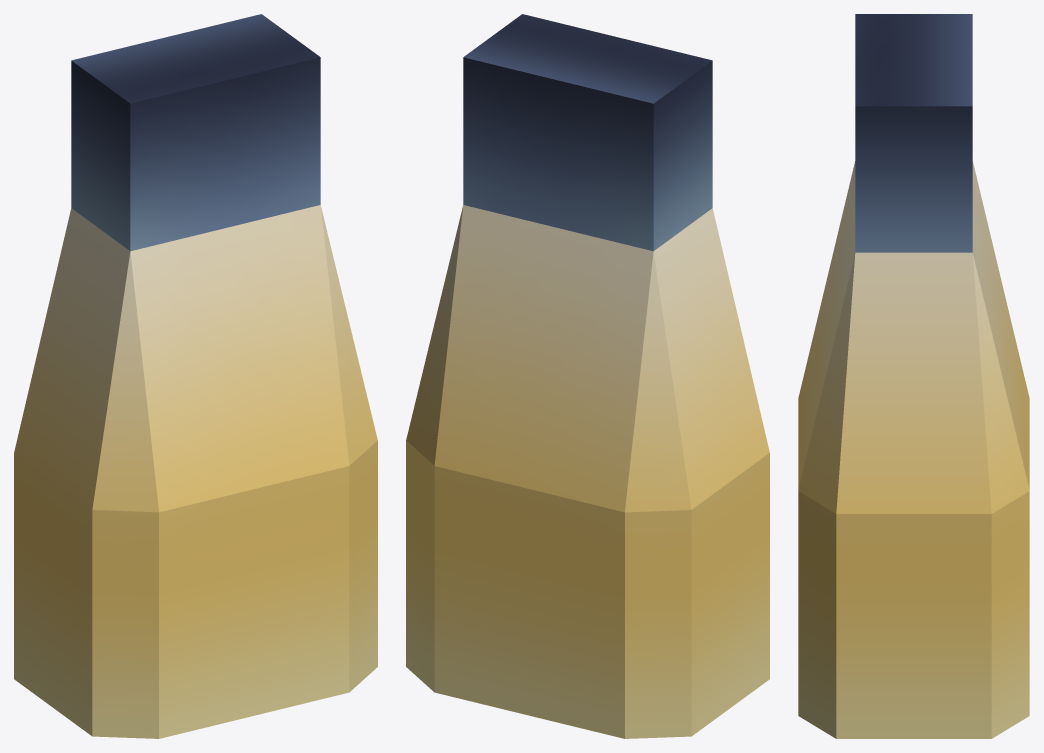
File: giftgoods107e.fbx
3 views of the same model, side by side, from view 1: azimuth 30°, elevation 25°; view 2: azimuth 150°, elevation 25°; view 3: azimuth 270°, elevation 25° (orthographic).
Parts seen in each view (by area): view 1: giftgoods107e; view 2: giftgoods107e; view 3: giftgoods107e.
Boxes of the visible parts, left/top/right/bottom form: giftgoods107e: left=14, top=14, right=377, bottom=738; giftgoods107e: left=406, top=14, right=769, bottom=738; giftgoods107e: left=798, top=14, right=1029, bottom=738.
Size of the model in its own units: 0.0443 by 0.0911 by 0.0313.
